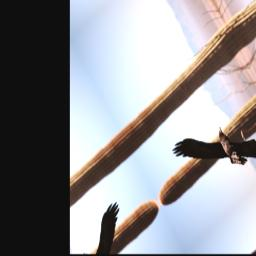Crow: (169, 85, 256, 219)
